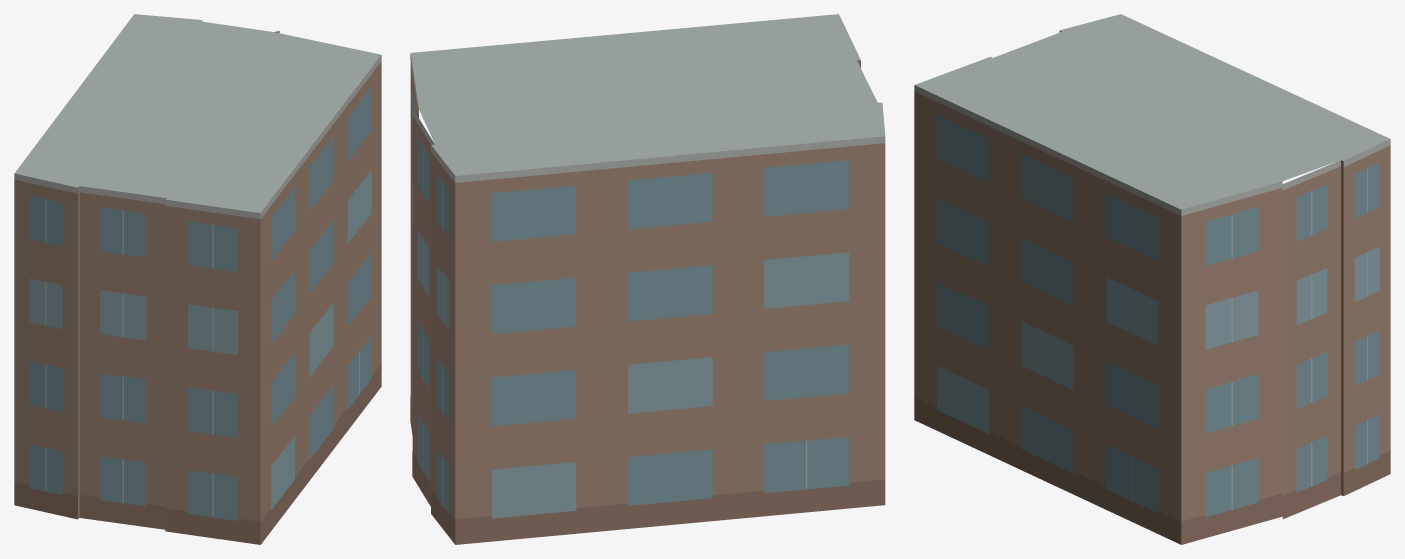
File: survey-upis-32835682.glb
3 renders of one model, left to right at view 1: azimuth 30°, elevation 25°; view 2: azimuth 150°, elevation 25°; view 3: azimuth 270°, elevation 25°, orthographic. The views are drawn at different scales.
Visible parts, largest first — view 1: survey-upis-32835682.tmp; view 2: survey-upis-32835682.tmp; view 3: survey-upis-32835682.tmp.
Boxes of the visible parts, x1,y1,x2,y2 form: survey-upis-32835682.tmp: [14, 14, 381, 544]; survey-upis-32835682.tmp: [410, 14, 885, 544]; survey-upis-32835682.tmp: [914, 14, 1390, 544].
Bounding box in the file's own units: 16.42 × 13.1 × 16.87.
